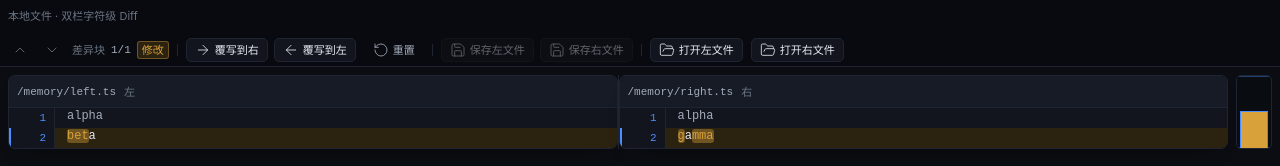
Test: in-place save and dirty marker › writes a modified side back in place without opening a save dialog
Click the button "覆写到右": coordinates (227, 50) [186, 38, 268, 62]
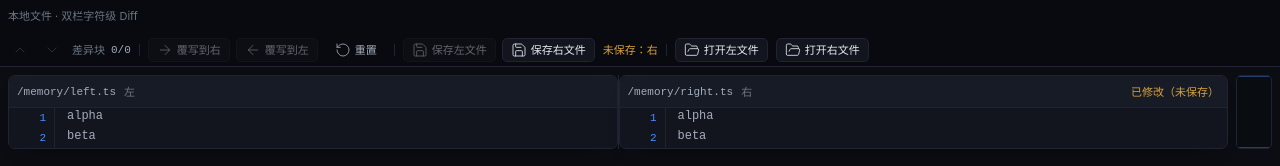
Click the button "保存右文件": coordinates (548, 50) [502, 38, 595, 62]
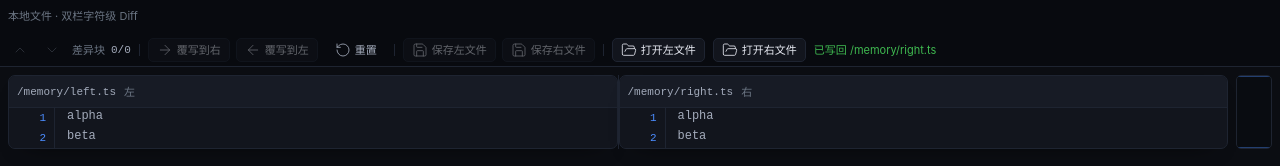
Expected: the text "/memory/right.ts" is shown, [628, 84, 733, 100]
Expected: the text "已写回 /memory/right.ts" is shown, [814, 42, 936, 58]
Expected: the text "已修改（未保存）" is gone
